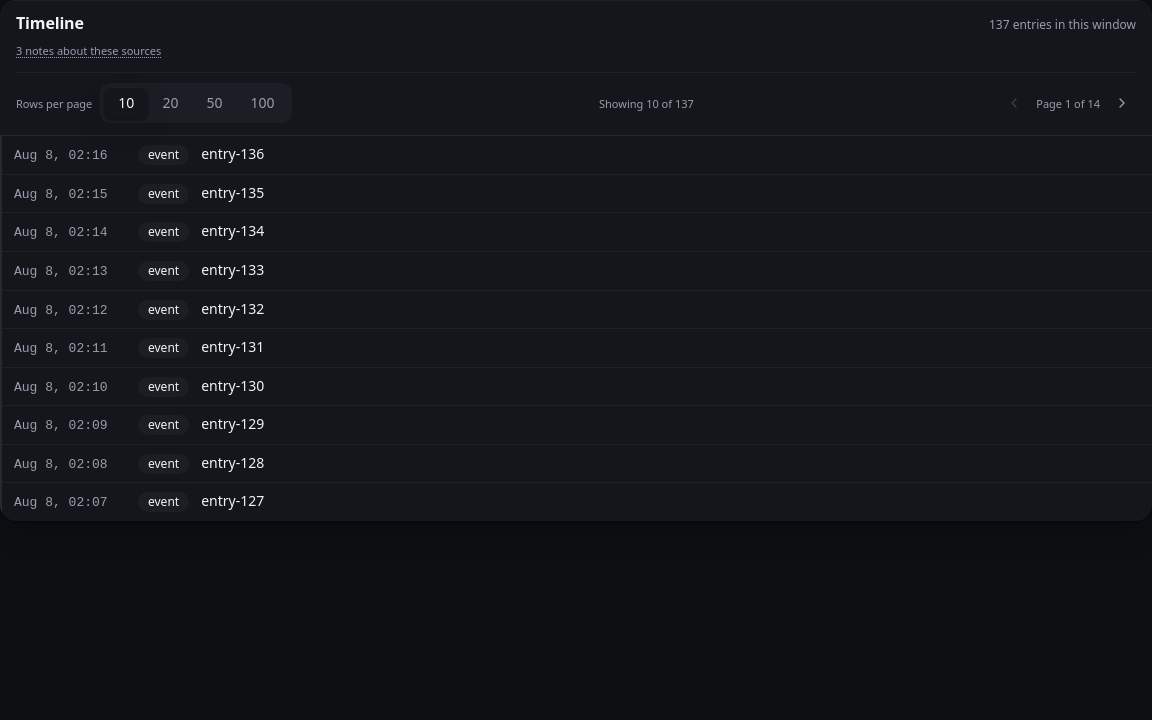
InvestigationTimeline — pagination › resets to page 1 when the window key changes
Click the radio button labelled "50" at (214, 103), box left=192, top=87, right=236, bottom=119
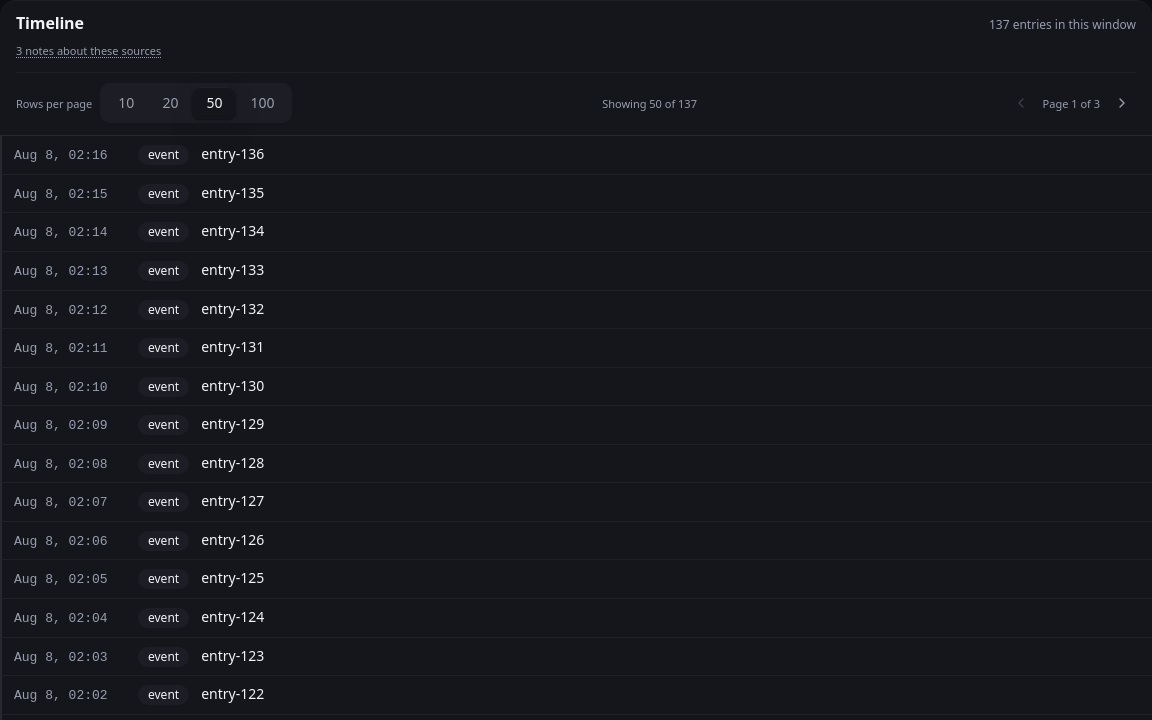
Click the button named "Next page" at (1122, 103), box left=1108, top=89, right=1136, bottom=117
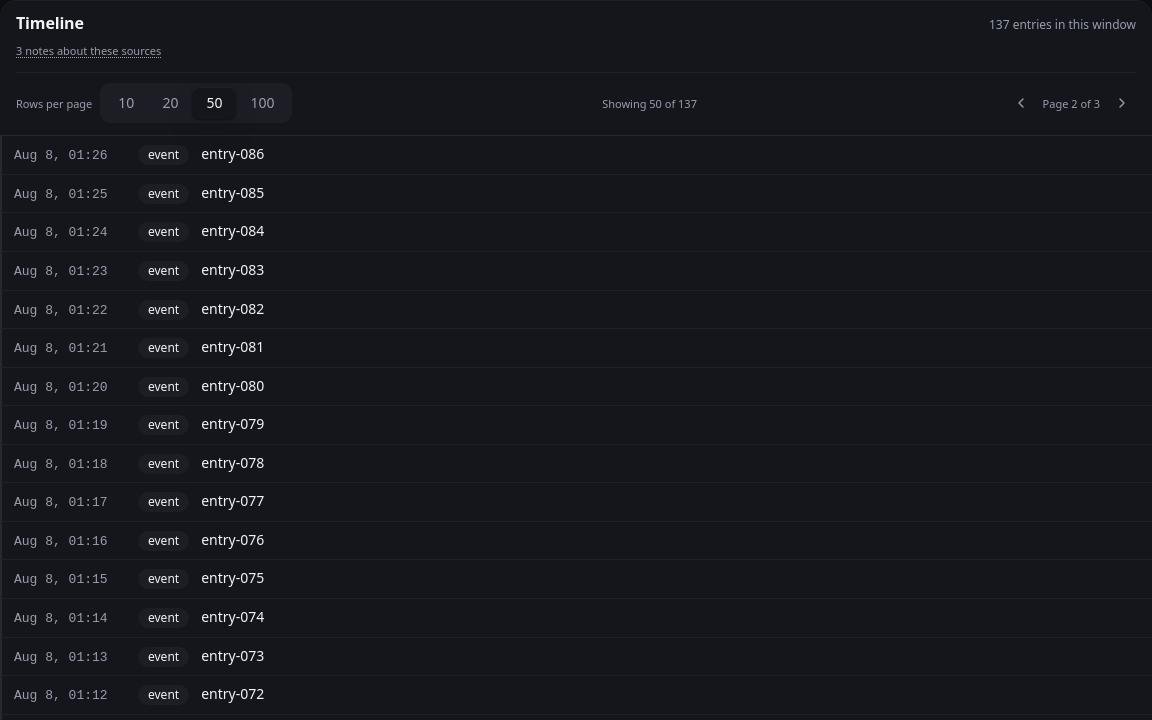
Now the text with test id "pager-page" reads "Page 2 of 3", box left=1043, top=96, right=1100, bottom=111
